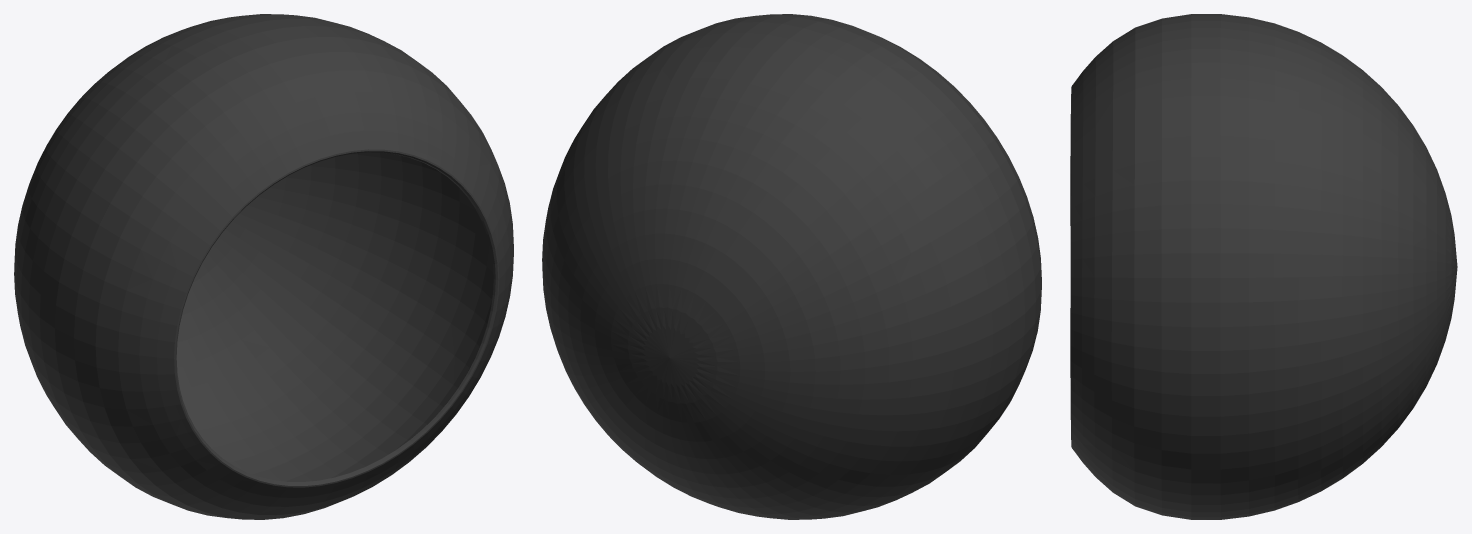
File: Sclera.glb
3 views of the same model, side by side, from view 1: azimuth 30°, elevation 25°; view 2: azimuth 150°, elevation 25°; view 3: azimuth 270°, elevation 25° (orthographic).
Visible parts, largest first — view 1: Sclera; view 2: Sclera; view 3: Sclera.
Part boxes in pixels (x1=…): Sclera: x1=14, y1=14, x2=513, y2=519; Sclera: x1=542, y1=14, x2=1041, y2=519; Sclera: x1=1070, y1=14, x2=1457, y2=519.
Size of the model in its own units: 1.98 by 1.98 by 1.51.
Materials: 1 (1 with a texture image).
